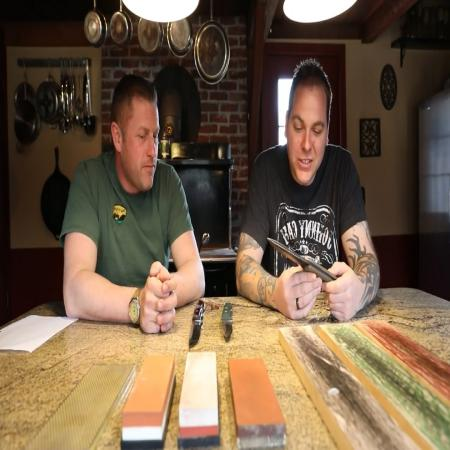long weapon: (258, 222, 352, 302)
